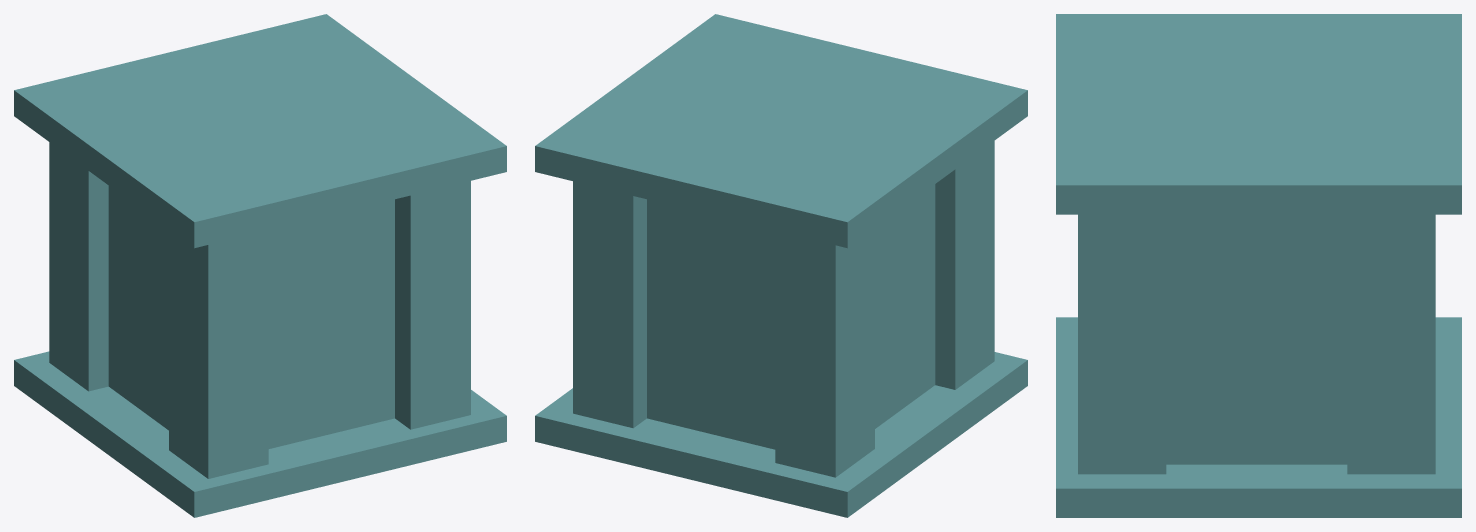
3 views of the same model, side by side, from view 1: azimuth 30°, elevation 25°; view 2: azimuth 150°, elevation 25°; view 3: azimuth 270°, elevation 25° (orthographic). The views are drawn at different scales.
Parts seen in each view (by area): view 1: box; view 2: box; view 3: box.
Part boxes in pixels (bbox=[...]): box: bbox=[14, 14, 506, 517]; box: bbox=[535, 14, 1027, 517]; box: bbox=[1056, 14, 1461, 517].
Bounding box in the file's own units: 0.255 × 0.2306 × 0.255.
